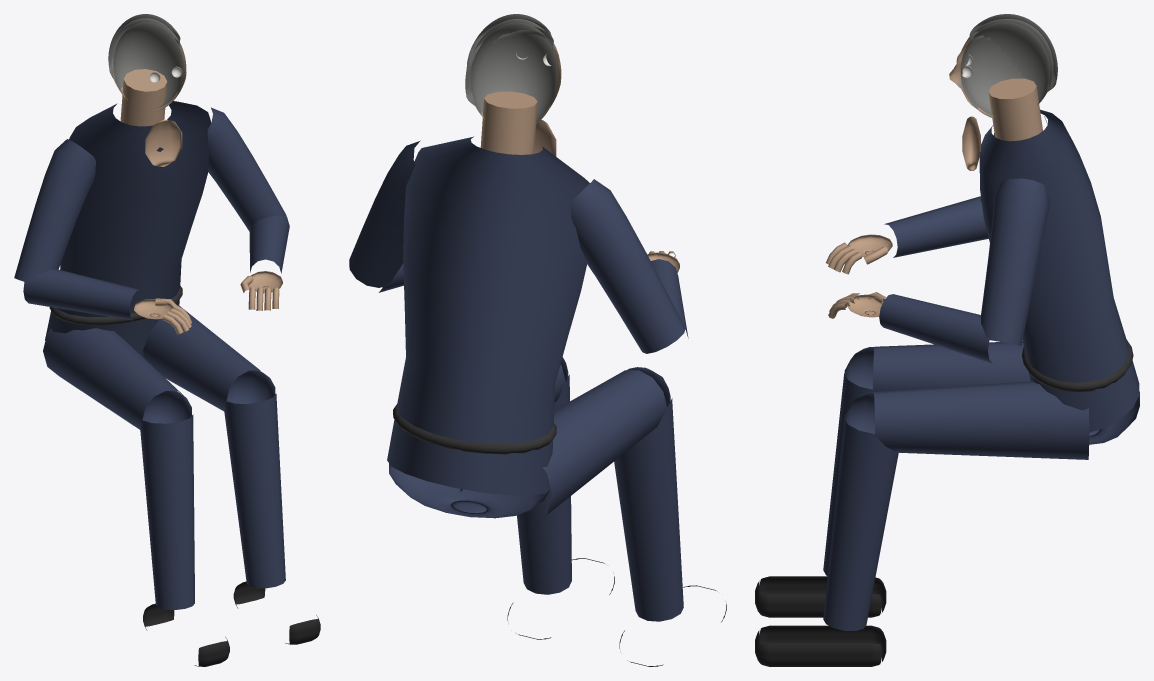
File: ballast_control_seated.glb
3 renders of one model, left to right at view 1: azimuth 30°, elevation 25°; view 2: azimuth 150°, elevation 25°; view 3: azimuth 270°, elevation 25°, orthographic. The views are drawn at different scales.
Parts seen in each view (by area): view 1: body, head; view 2: body, head; view 3: body, head.
Boxes of the visible parts, box(x1,y1,x2,y2) form: body: box(14, 69, 320, 666); head: box(108, 14, 186, 111); body: box(349, 91, 726, 666); head: box(465, 14, 561, 123); body: box(755, 78, 1139, 666); head: box(949, 14, 1057, 118).
Size of the model in its own units: 0.7066 by 1.41 by 0.7922.
